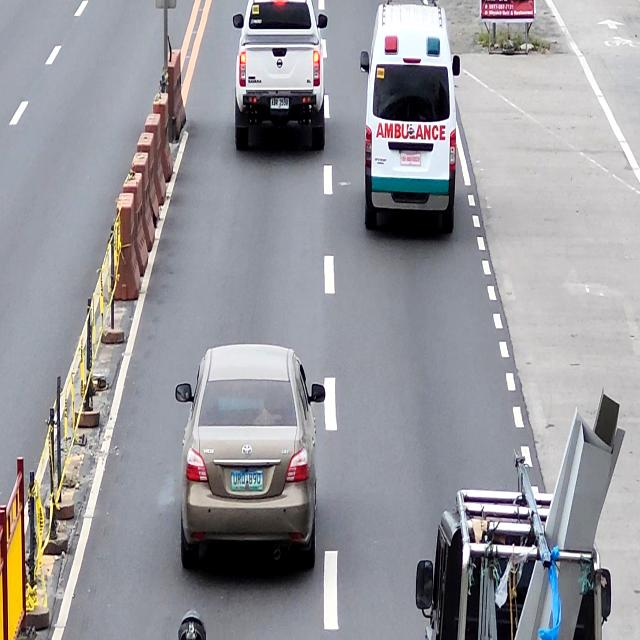Car: (175, 344, 326, 576), (360, 3, 460, 241), (233, 0, 329, 151)
License-Plate: (230, 471, 262, 490), (270, 96, 289, 108)
Truck: (413, 486, 612, 640)
